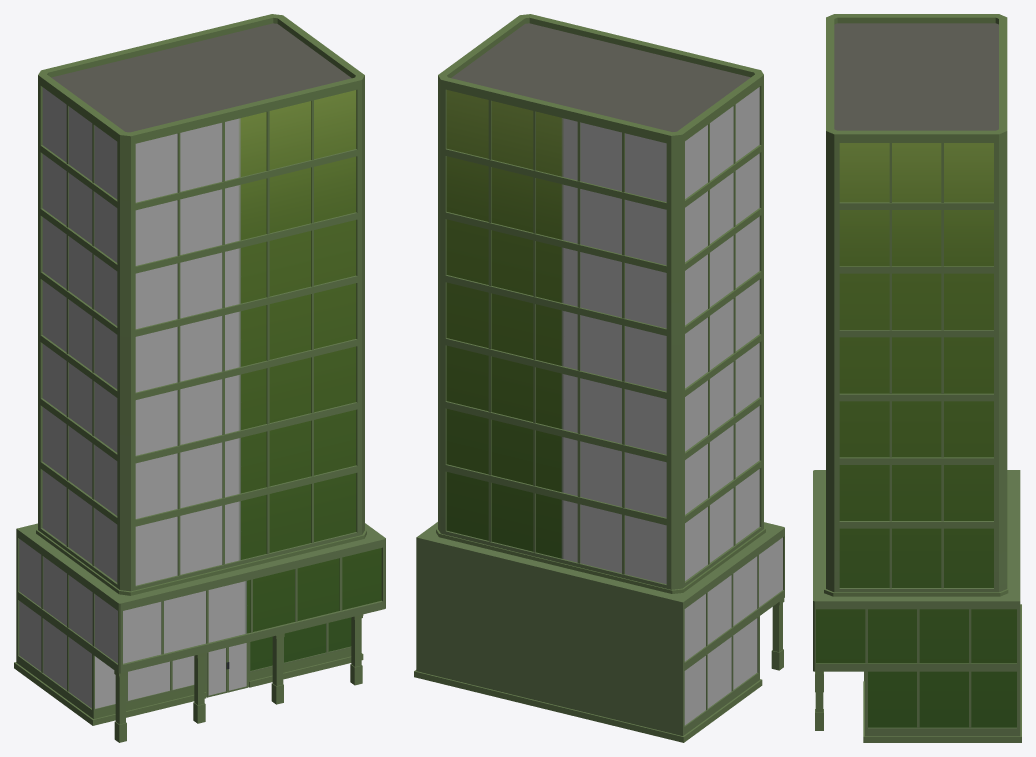
The model's file is House_48.fbx.
3 renders of one model, left to right at view 1: azimuth 30°, elevation 25°; view 2: azimuth 150°, elevation 25°; view 3: azimuth 270°, elevation 25°, orthographic.
Parts seen in each view (by area): view 1: House_48; view 2: House_48; view 3: House_48.
Boxes of the visible parts, bbox=[...] form: House_48: bbox=[14, 14, 385, 742]; House_48: bbox=[414, 14, 784, 742]; House_48: bbox=[813, 14, 1021, 742].
Bounding box in the file's own units: 12.14 × 25.67 × 8.06.
